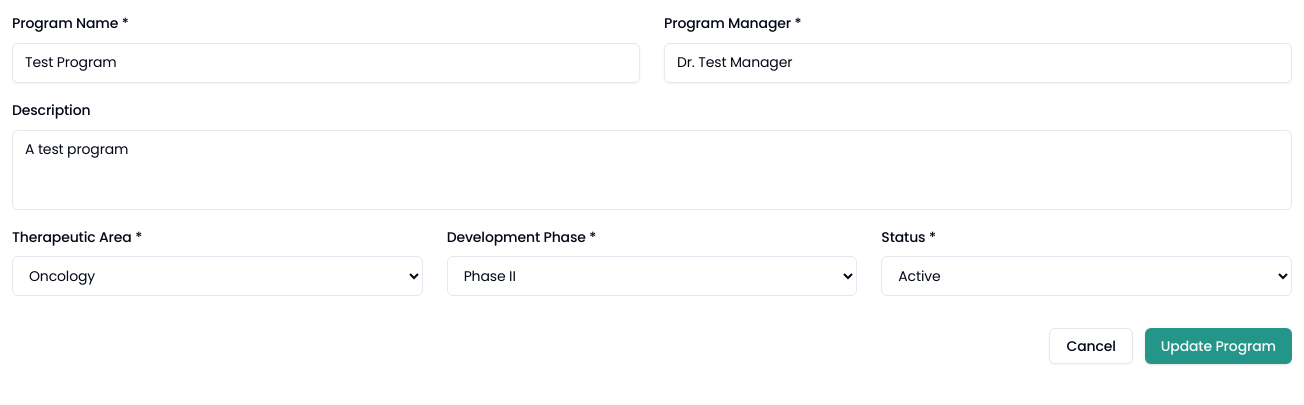
it: EditProgramForm › Form Validation › should show error for empty manager field
Clear the field showing "Dr. Test Manager" at [978, 63], box [664,43,1292,83]
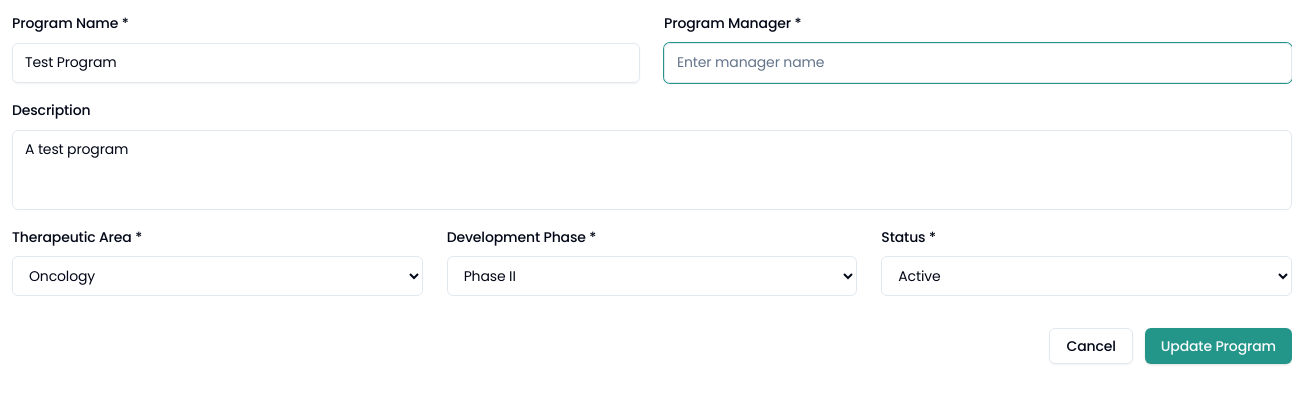
Click the button "Update Program" at [1218, 346], box [1145,328,1292,364]
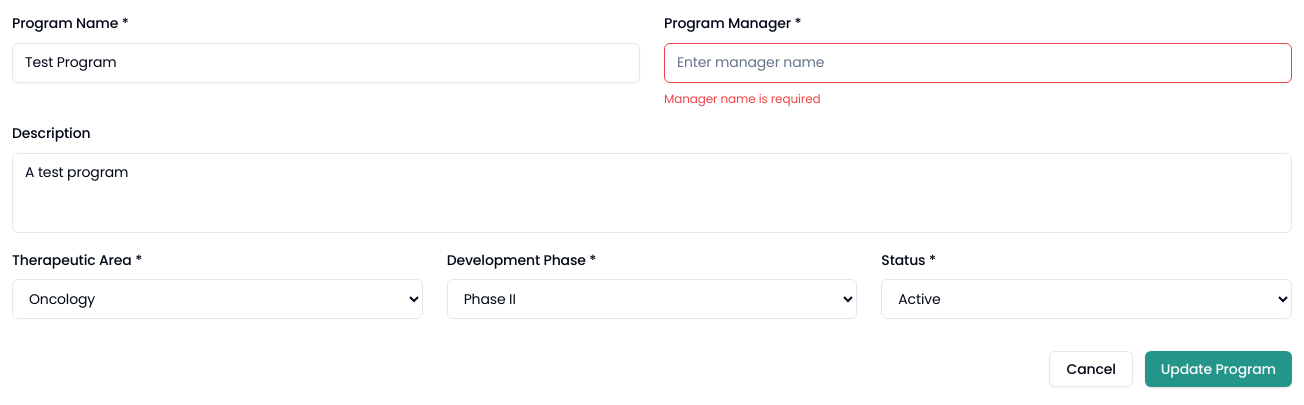
Result: the text "Manager name is required" is shown at [664,90,820,107]
